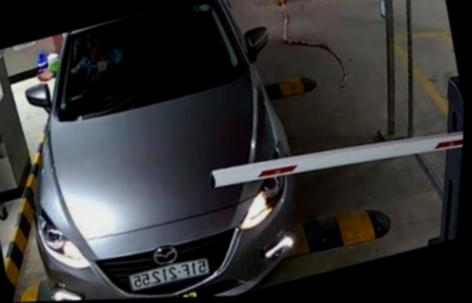License_Plate: (115, 252, 213, 295)
